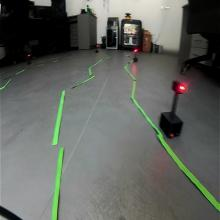red: (170, 79, 186, 95)
